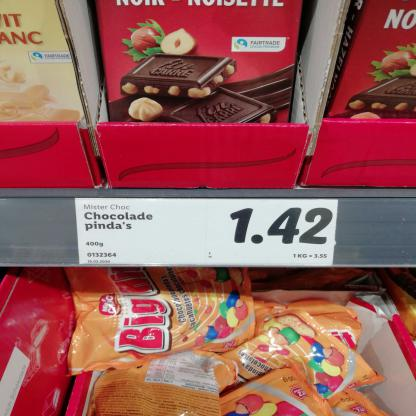prtg: (76, 198, 339, 266)
